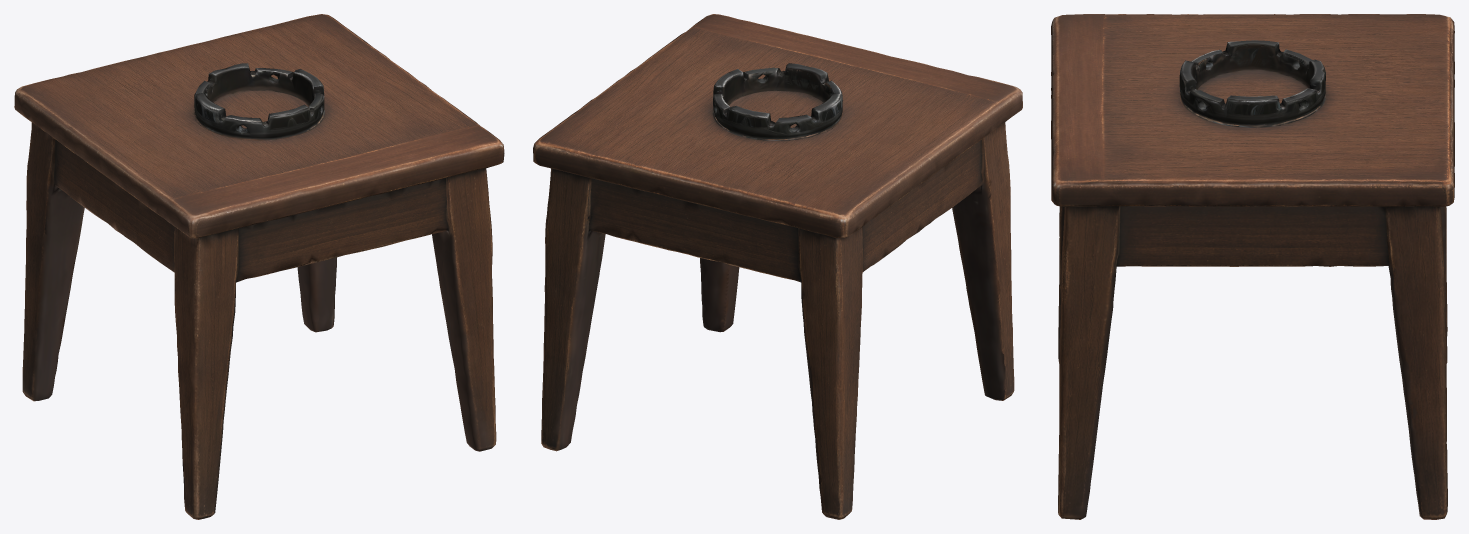
Rendered from VAR_LivingRoom_SideTable.fbx.
The picture shows the model from 3 angles, left to right: view 1: azimuth 30°, elevation 25°; view 2: azimuth 150°, elevation 25°; view 3: azimuth 270°, elevation 25°; orthographic projection. The views are drawn at different scales.
Parts seen in each view (by area): view 1: texture_mapping; view 2: texture_mapping; view 3: texture_mapping.
Boxes of the visible parts, x1=… form: texture_mapping: x1=14, y1=14, x2=504, y2=519; texture_mapping: x1=533, y1=14, x2=1022, y2=519; texture_mapping: x1=1051, y1=14, x2=1454, y2=519.
Size of the model in its own units: 1 by 0.9931 by 1.
Materials: 1 (1 with a texture image).
